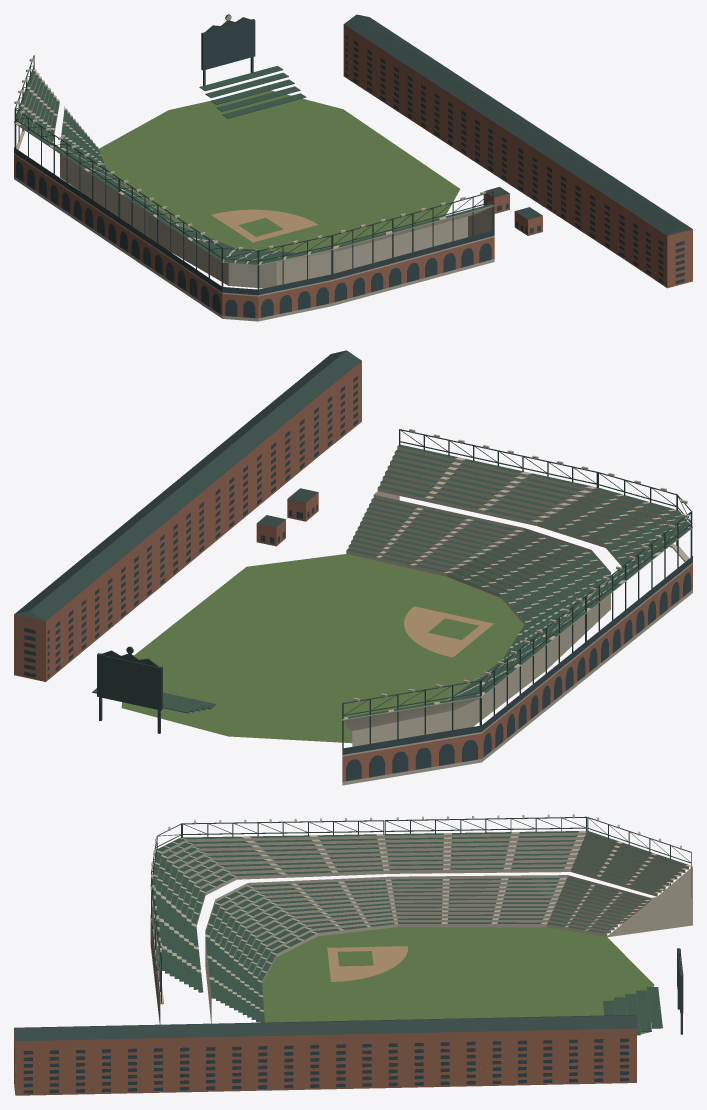
Rendered from oriole-park-camden-yards-far.glb.
3 views of the same model, one above another, from view 1: azimuth 30°, elevation 25°; view 2: azimuth 150°, elevation 25°; view 3: azimuth 270°, elevation 25° (orthographic). The views are drawn at different scales.
Visible parts, largest first — view 1: oriole-park-camden-yards-0-grass, oriole-park-camden-yards-0-brick, oriole-park-camden-yards-0-stone, oriole-park-camden-yards-0-glass, oriole-park-camden-yards-0-steel, oriole-park-camden-yards-0-seat, oriole-park-camden-yards-0-column, oriole-park-camden-yards-0-dirt; view 2: oriole-park-camden-yards-0-grass, oriole-park-camden-yards-0-stone, oriole-park-camden-yards-0-brick, oriole-park-camden-yards-0-seat, oriole-park-camden-yards-0-steel, oriole-park-camden-yards-0-glass, oriole-park-camden-yards-0-column, oriole-park-camden-yards-0-dirt; view 3: oriole-park-camden-yards-0-stone, oriole-park-camden-yards-0-seat, oriole-park-camden-yards-0-brick, oriole-park-camden-yards-0-grass, oriole-park-camden-yards-0-steel, oriole-park-camden-yards-0-glass, oriole-park-camden-yards-0-dirt, oriole-park-camden-yards-0-column.
Boxes of the visible parts, left/top/right/bottom form: oriole-park-camden-yards-0-grass: left=99, top=90, right=459, bottom=252; oriole-park-camden-yards-0-brick: left=14, top=24, right=692, bottom=318; oriole-park-camden-yards-0-stone: left=14, top=15, right=494, bottom=321; oriole-park-camden-yards-0-glass: left=14, top=20, right=684, bottom=318; oriole-park-camden-yards-0-steel: left=15, top=14, right=692, bottom=261; oriole-park-camden-yards-0-seat: left=14, top=66, right=493, bottom=264; oriole-park-camden-yards-0-column: left=14, top=55, right=493, bottom=289; oriole-park-camden-yards-0-dirt: left=211, top=209, right=317, bottom=242; oriole-park-camden-yards-0-grass: left=121, top=554, right=523, bottom=743; oriole-park-camden-yards-0-stone: left=342, top=429, right=692, bottom=785; oriole-park-camden-yards-0-brick: left=14, top=361, right=692, bottom=781; oriole-park-camden-yards-0-seat: left=92, top=444, right=692, bottom=730; oriole-park-camden-yards-0-steel: left=14, top=350, right=691, bottom=733; oriole-park-camden-yards-0-glass: left=24, top=375, right=692, bottom=781; oriole-park-camden-yards-0-column: left=342, top=429, right=692, bottom=748; oriole-park-camden-yards-0-dirt: left=404, top=606, right=493, bottom=657; oriole-park-camden-yards-0-stone: left=150, top=814, right=692, bottom=1024; oriole-park-camden-yards-0-seat: left=150, top=831, right=688, bottom=1035; oriole-park-camden-yards-0-brick: left=14, top=922, right=636, bottom=1095; oriole-park-camden-yards-0-grass: left=262, top=927, right=654, bottom=1034; oriole-park-camden-yards-0-steel: left=14, top=816, right=690, bottom=1041; oriole-park-camden-yards-0-glass: left=14, top=914, right=680, bottom=1093; oriole-park-camden-yards-0-dirt: left=327, top=946, right=408, bottom=981; oriole-park-camden-yards-0-column: left=151, top=816, right=691, bottom=1002.
Bounding box in the file's own units: 247 × 42 × 343.
